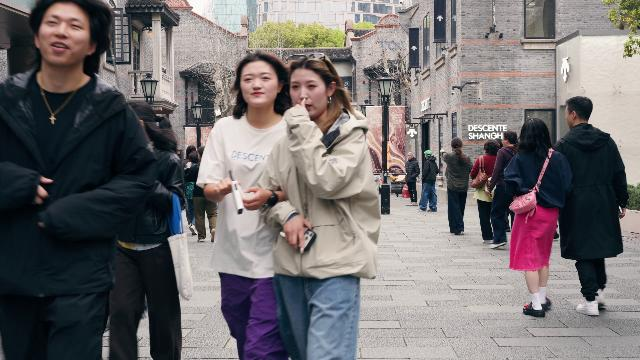person: (0, 0, 167, 360), (252, 53, 381, 360), (196, 51, 293, 360), (115, 97, 207, 360), (553, 95, 629, 316), (503, 117, 574, 318), (485, 131, 518, 249), (439, 137, 473, 235), (470, 138, 501, 244), (418, 150, 440, 212), (405, 152, 420, 206)
